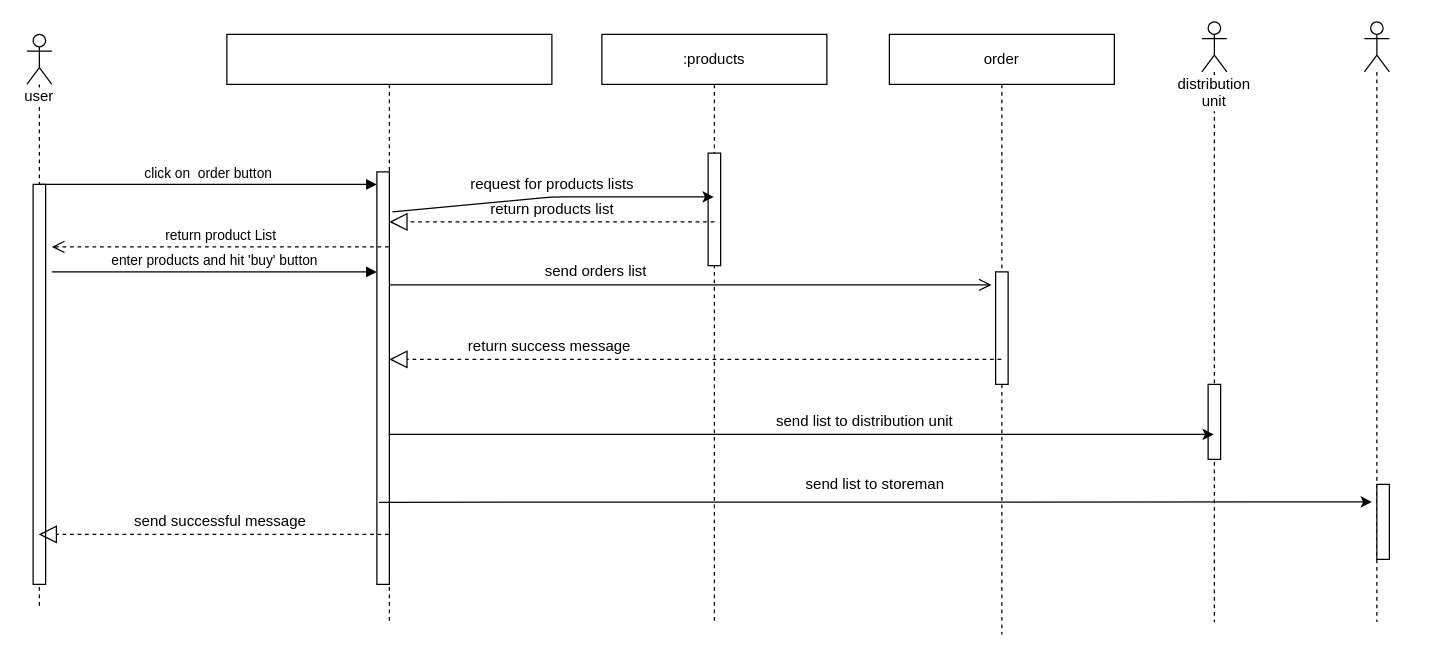
Some shapes in this 1429 by 656 pixel diagram are drawn without their labels. Here are the shapes that lost their labels. From the top down, the box of each, then its label:
(226, 33, 552, 622): warehouse keeping system
(1363, 21, 1389, 622): storeman
